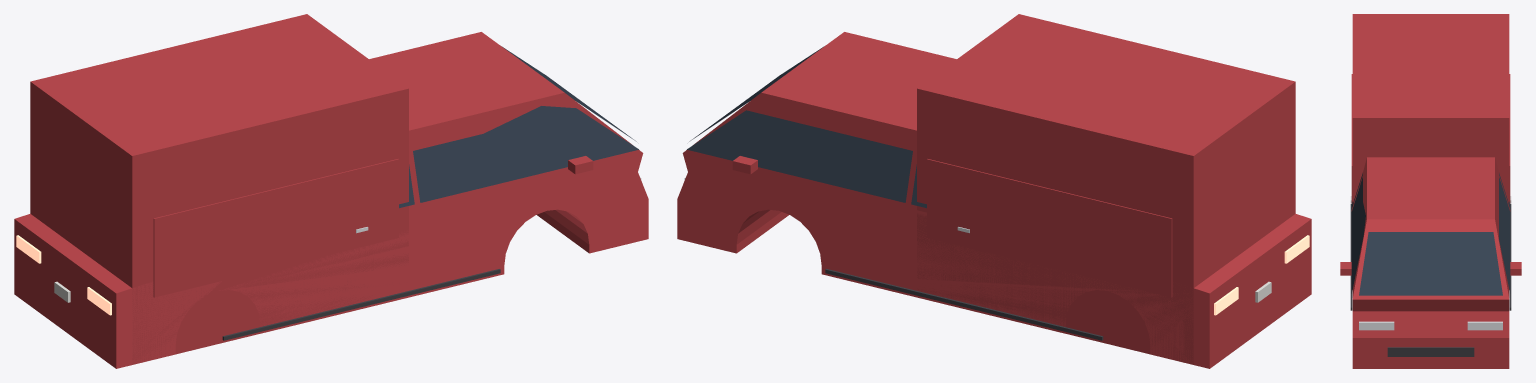
Rendered from SM_Veh_BoxTruck.fbx.
The picture shows the model from 3 angles, left to right: view 1: azimuth 30°, elevation 25°; view 2: azimuth 150°, elevation 25°; view 3: azimuth 270°, elevation 25°; orthographic projection. The views are drawn at different scales.
Visible parts, largest first — view 1: SM_Veh_BoxTruck; view 2: SM_Veh_BoxTruck; view 3: SM_Veh_BoxTruck.
Boxes of the visible parts, x1=… form: SM_Veh_BoxTruck: x1=14, y1=14, x2=648, y2=368; SM_Veh_BoxTruck: x1=677, y1=14, x2=1311, y2=368; SM_Veh_BoxTruck: x1=1340, y1=14, x2=1521, y2=368.
Bounding box in the file's own units: 688 × 260 × 255.
